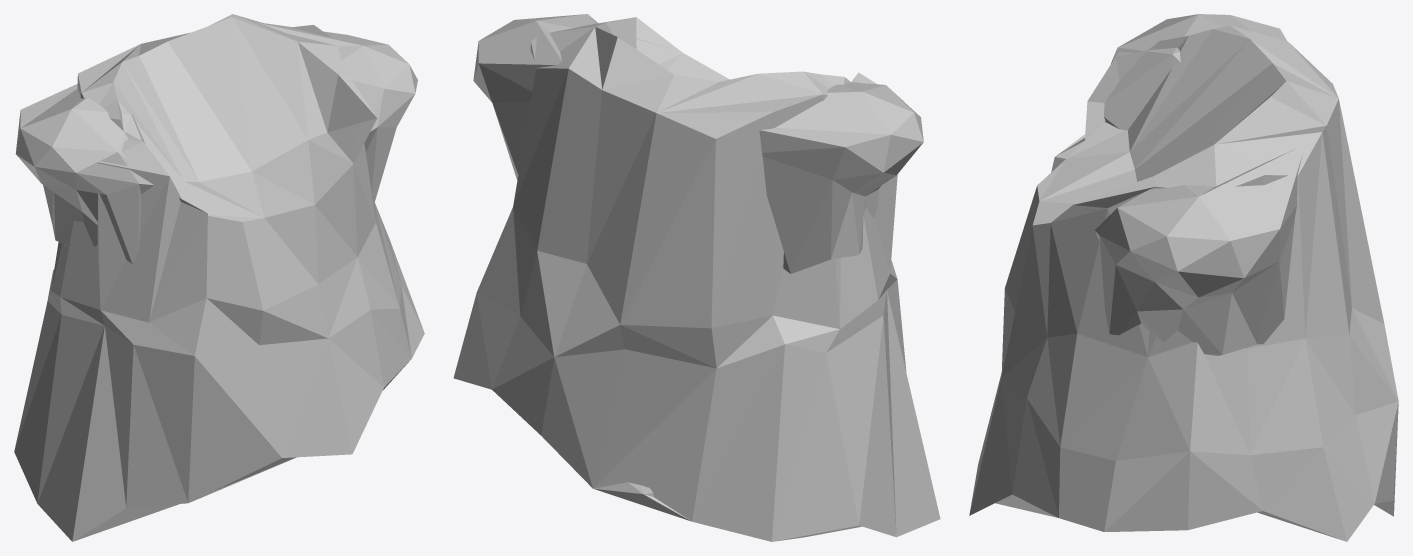
File: Char_GL_Body_Upper.FBX
3 views of the same model, side by side, from view 1: azimuth 30°, elevation 25°; view 2: azimuth 150°, elevation 25°; view 3: azimuth 270°, elevation 25° (orthographic). The views are drawn at different scales.
Parts seen in each view (by area): view 1: Cylinder001; view 2: Cylinder001; view 3: Cylinder001.
Part boxes in pixels (x1,y1,x2,y2): Cylinder001: [14, 14, 424, 541]; Cylinder001: [453, 14, 940, 541]; Cylinder001: [969, 14, 1398, 541].
Bounding box in the file's own units: 35.42 × 37.32 × 28.23.
